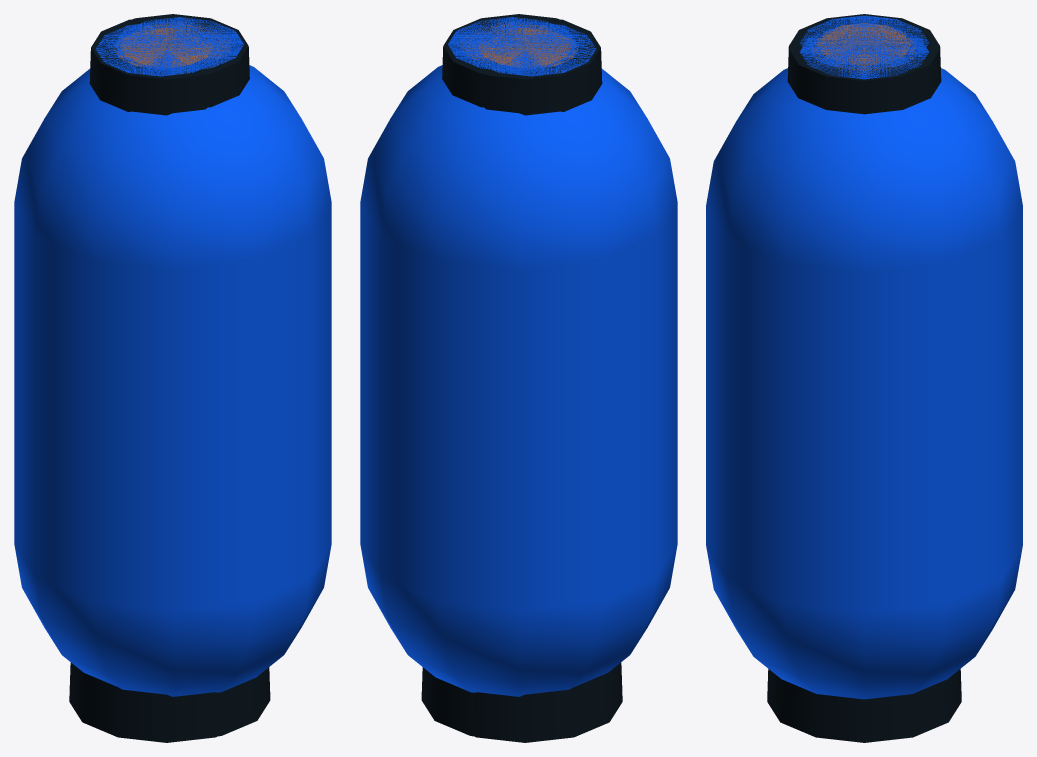
File: profe-athlete.glb
3 views of the same model, side by side, from view 1: azimuth 30°, elevation 25°; view 2: azimuth 150°, elevation 25°; view 3: azimuth 270°, elevation 25° (orthographic).
Visible parts, largest first — view 1: Torso, UpperLegR, UpperLegL, UpperArmL, UpperArmR, LowerArmL; view 2: Torso, UpperLegR, UpperLegL, UpperArmL, UpperArmR, LowerArmL; view 3: Torso, UpperLegL, UpperArmL, UpperArmR, LowerArmL, UpperLegR, LowerLegL, LowerArmR.
Part boxes in pixels (x1,y1,x2,y2): Torso: (14,65,331,696); UpperLegR: (69,15,242,742); UpperLegL: (98,14,270,736); UpperArmL: (95,21,224,76); UpperArmR: (115,17,243,71); LowerArmL: (120,27,213,66); Torso: (360,65,677,696); UpperLegR: (449,15,622,742); UpperLegL: (421,14,593,736); UpperArmL: (467,21,596,76); UpperArmR: (448,17,577,71); LowerArmL: (478,27,571,66); Torso: (706,68,1022,699); UpperLegL: (767,17,961,742); UpperArmL: (800,15,928,68); UpperArmR: (800,25,928,79); LowerArmL: (818,26,910,65); UpperLegR: (767,14,961,693); LowerLegL: (811,29,916,74); LowerArmR: (822,23,908,62).
Bounding box in the file's own units: 0.44 × 1 × 0.44.
